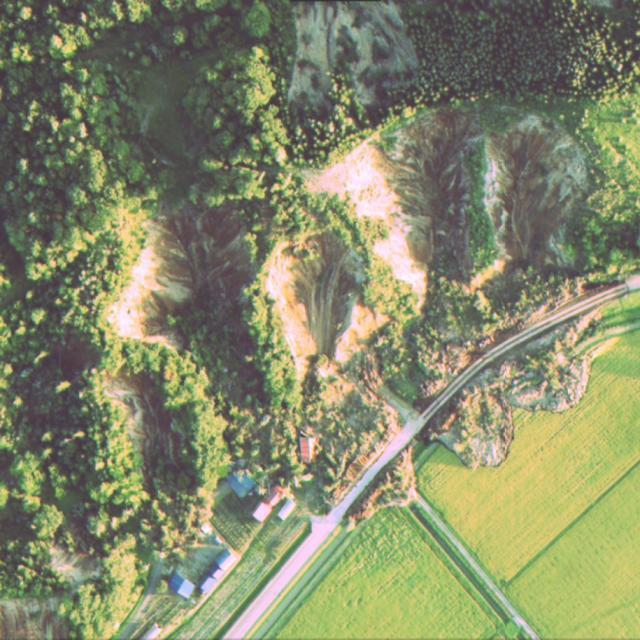landslide: (111, 109, 590, 515), (427, 311, 599, 468)
